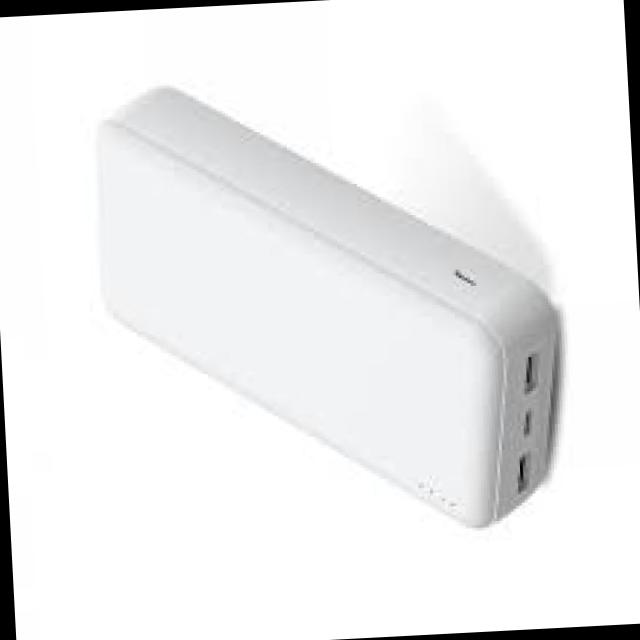power_bank: (88, 64, 579, 546)
